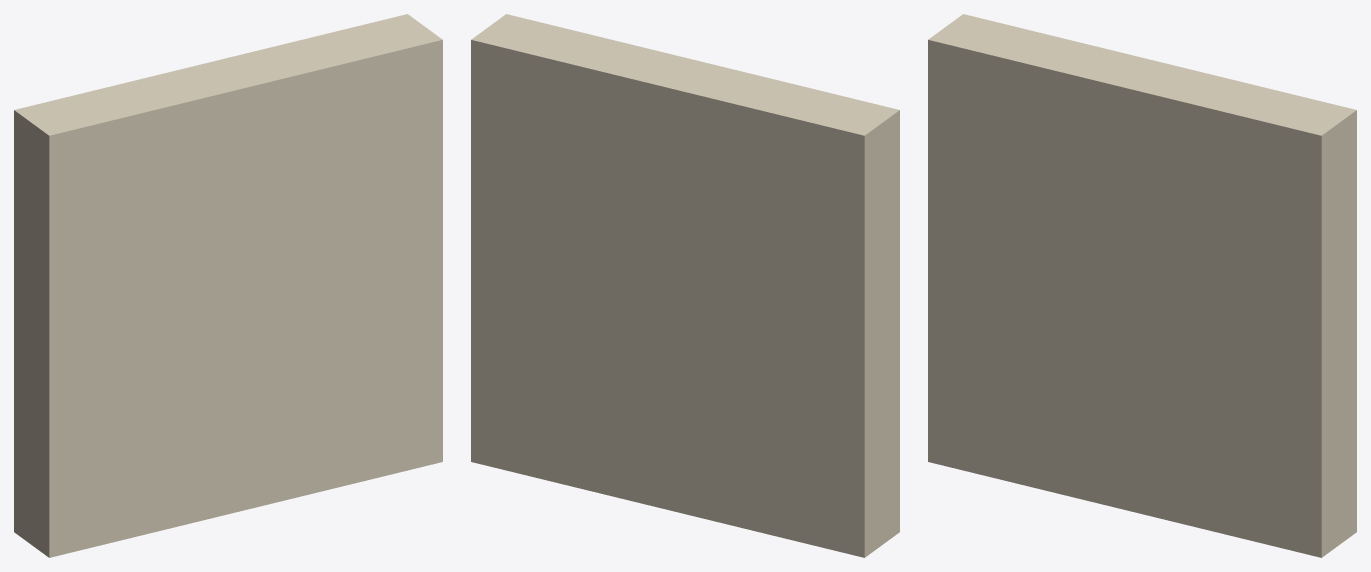
3 renders of one model, left to right at view 1: azimuth 30°, elevation 25°; view 2: azimuth 150°, elevation 25°; view 3: azimuth 330°, elevation 25°, orthographic.
Visible parts, largest first — view 1: B-FF-WINDOW-008-SILL; view 2: B-FF-WINDOW-008-SILL; view 3: B-FF-WINDOW-008-SILL.
Boxes of the visible parts, x1,y1,x2,y2 form: B-FF-WINDOW-008-SILL: (14,14,442,557); B-FF-WINDOW-008-SILL: (471,14,899,557); B-FF-WINDOW-008-SILL: (928,14,1356,557).
Size of the model in its own units: 0.8 by 0.82 by 0.124.
